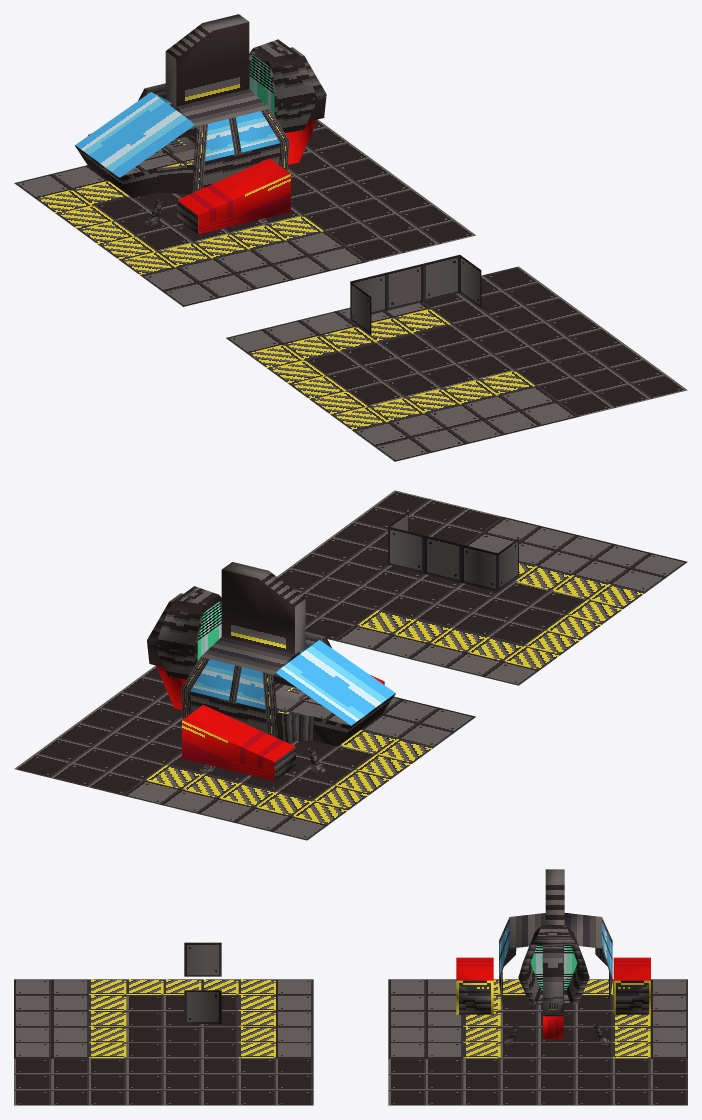
File: ship.obj
The picture shows the model from 3 angles, top to bottom: view 1: azimuth 30°, elevation 25°; view 2: azimuth 150°, elevation 25°; view 3: azimuth 270°, elevation 25°; orthographic projection. The views are drawn at different scales.
Visible parts, largest first — view 1: Floor, Object_2762, Fin, Wing, Scene, Object_1830, Object_3235, Object_4056; view 2: Floor, Object_2762, Fin, Wing, Scene, Object_1830, Object_3235, Object_4056; view 3: Floor, Wing, Object_2762, Object_3235, Scene, Object_1830, Fin, Object_4056.
Part boxes in pixels (x1,y1,x2,y2): Floor: (14,119,687,461); Object_2762: (75,83,302,198); Fin: (165,14,249,106); Wing: (88,133,290,234); Scene: (350,255,481,334); Object_1830: (249,52,317,132); Object_3235: (250,39,326,164); Object_4056: (249,55,274,115); Floor: (14,490,687,840); Object_2762: (181,631,395,746); Fin: (221,562,305,654); Wing: (182,675,384,781); Scene: (388,511,518,591); Object_1830: (155,600,221,679); Object_3235: (147,586,221,709); Object_4056: (197,601,221,660); Floor: (14,979,687,1105); Wing: (456,957,650,1014); Object_2762: (499,913,612,1008); Object_3235: (530,925,577,1039); Scene: (184,942,221,1023); Object_1830: (518,937,589,1004); Fin: (545,869,564,925); Object_4056: (530,945,577,991).
Size of the model in its own units: 8 by 4.75 by 18.
2 materials, 2 textured.
